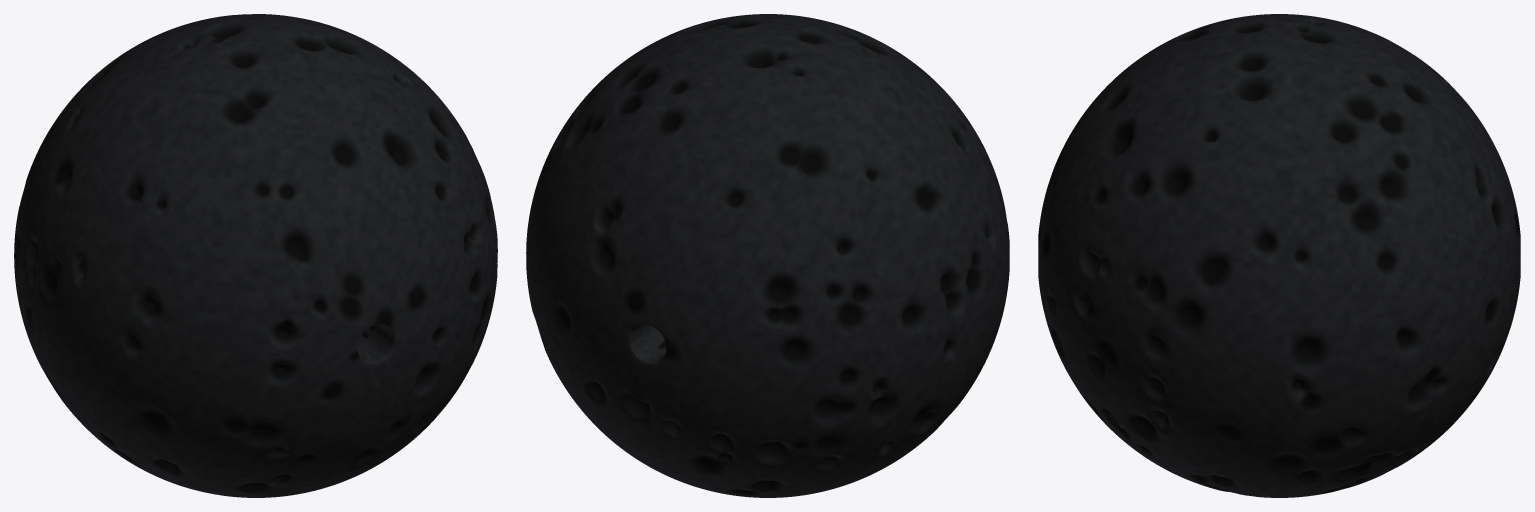
Rendered from black-lava-12mm.glb.
3 views of the same model, side by side, from view 1: azimuth 30°, elevation 25°; view 2: azimuth 150°, elevation 25°; view 3: azimuth 270°, elevation 25° (orthographic).
Visible parts, largest first — view 1: black-lava.001; view 2: black-lava.001; view 3: black-lava.001.
Boxes of the visible parts, bbox=[...] form: black-lava.001: bbox=[14, 14, 497, 497]; black-lava.001: bbox=[526, 14, 1009, 497]; black-lava.001: bbox=[1038, 14, 1520, 497].
Bounding box in the file's own units: 0.012 × 0.012 × 0.012.
1 material, 1 textured.
